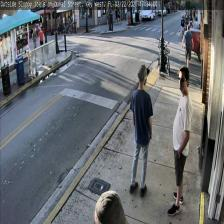person: (167, 66, 193, 215), (128, 62, 153, 194), (181, 25, 194, 67)
